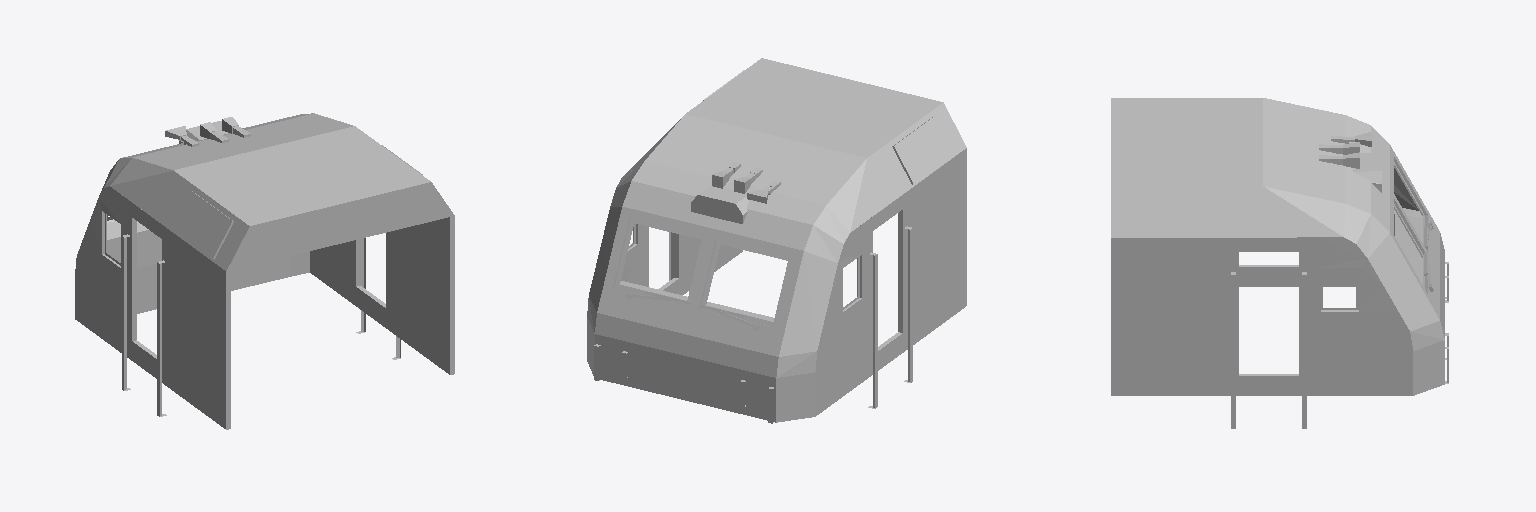
File: hxd3d_head.obj
3 views of the same model, side by side, from view 1: azimuth 30°, elevation 25°; view 2: azimuth 150°, elevation 25°; view 3: azimuth 270°, elevation 25° (orthographic).
Parts seen in each view (by area): view 1: cube; view 2: cube; view 3: cube.
Boxes of the visible parts, x1=… form: cube: x1=75, y1=113, x2=454, y2=429; cube: x1=587, y1=58, x2=966, y2=423; cube: x1=1111, y1=98, x2=1448, y2=428.
Bounding box in the file's own units: 3.19 × 2.88 × 3.88.